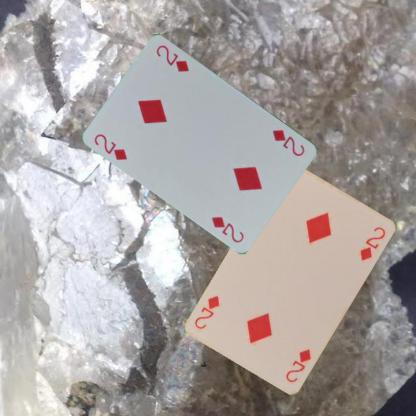2d: (270, 126, 307, 158), (92, 130, 129, 161), (283, 347, 313, 384)
